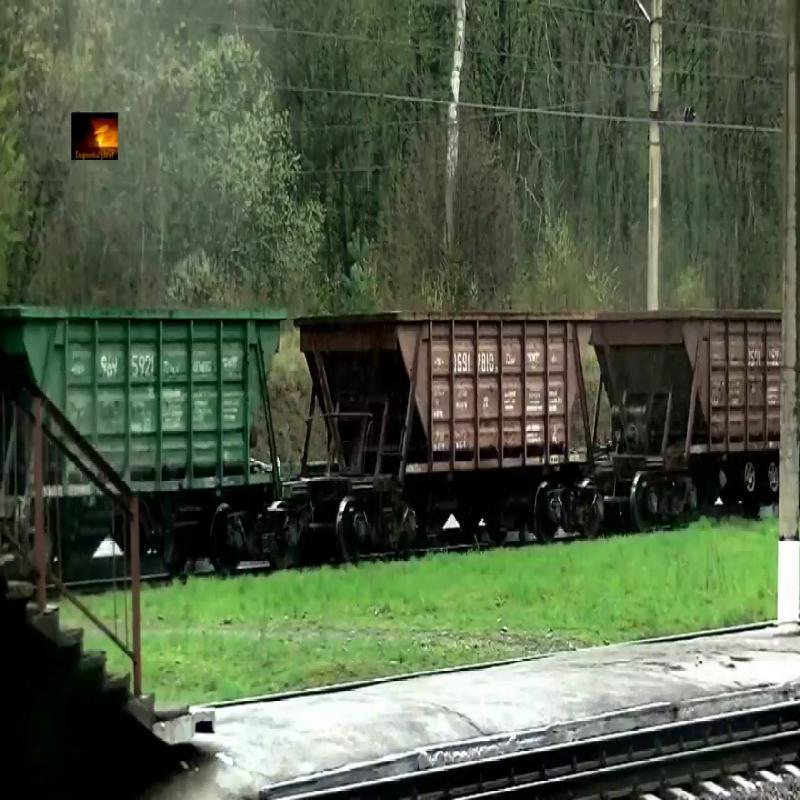train: (1, 307, 290, 487), (301, 310, 596, 474), (593, 313, 781, 472)
